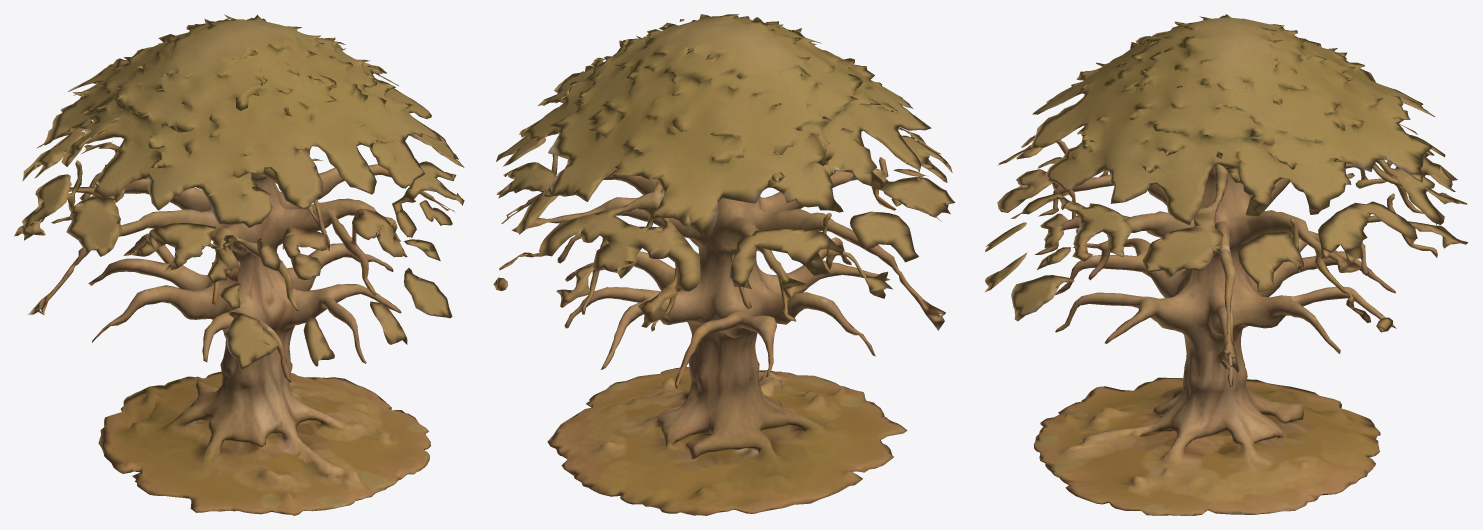
The model's file is base_basic_pbr.glb.
The picture shows the model from 3 angles, left to right: view 1: azimuth 30°, elevation 25°; view 2: azimuth 150°, elevation 25°; view 3: azimuth 270°, elevation 25°; orthographic projection. The views are drawn at different scales.
Parts seen in each view (by area): view 1: model; view 2: model; view 3: model.
Boxes of the visible parts, x1=… form: model: x1=14, y1=14, x2=464, y2=515; model: x1=493, y1=14, x2=955, y2=515; model: x1=985, y1=14, x2=1467, y2=515.
Bounding box in the file's own units: 1.86 × 1.71 × 1.82.
Materials: 1 (1 with a texture image).
